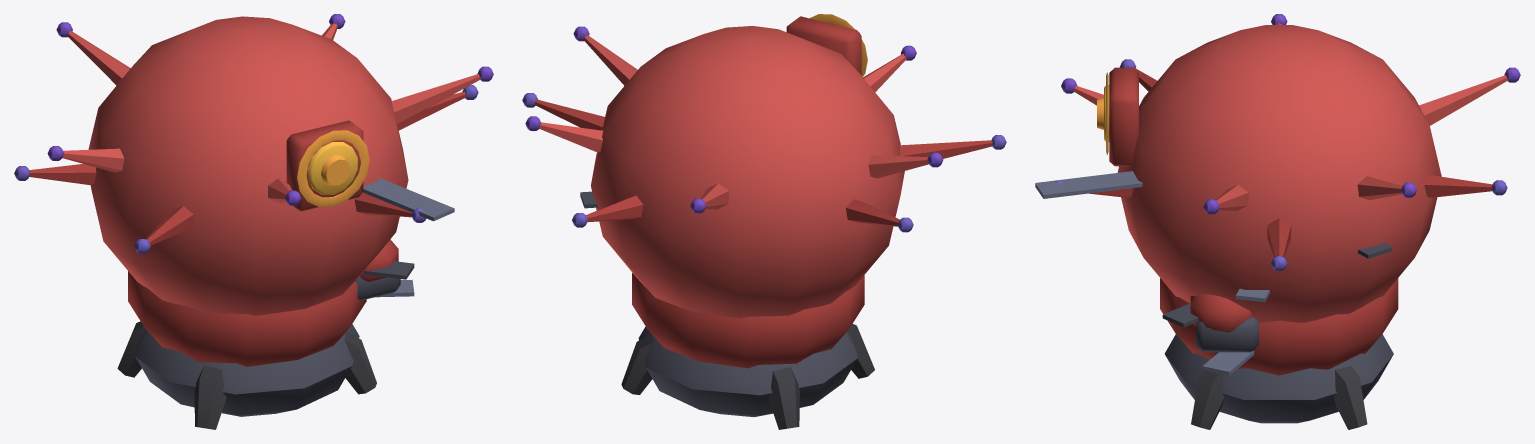
The model's file is brine_urchin.glb.
The picture shows the model from 3 angles, left to right: view 1: azimuth 30°, elevation 25°; view 2: azimuth 150°, elevation 25°; view 3: azimuth 270°, elevation 25°; orthographic projection. The views are drawn at different scales.
Parts seen in each view (by area): view 1: BrineUrchin; view 2: BrineUrchin; view 3: BrineUrchin.
Part boxes in pixels (x1,y1,x2,y2): BrineUrchin: [14, 14, 493, 429]; BrineUrchin: [522, 14, 1006, 429]; BrineUrchin: [1035, 14, 1520, 429].
Size of the model in its own units: 3.54 by 2.9 by 3.48.
1 material, 1 textured.
